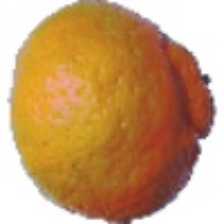tangerine: (46, 47, 222, 205)
